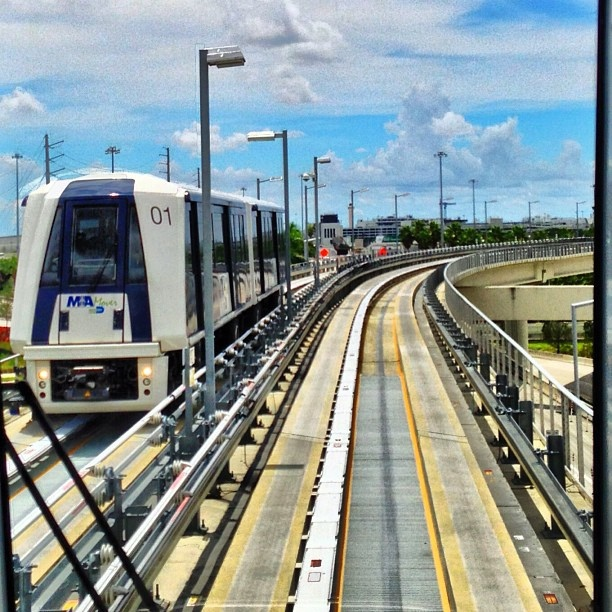train: (10, 169, 300, 580)
